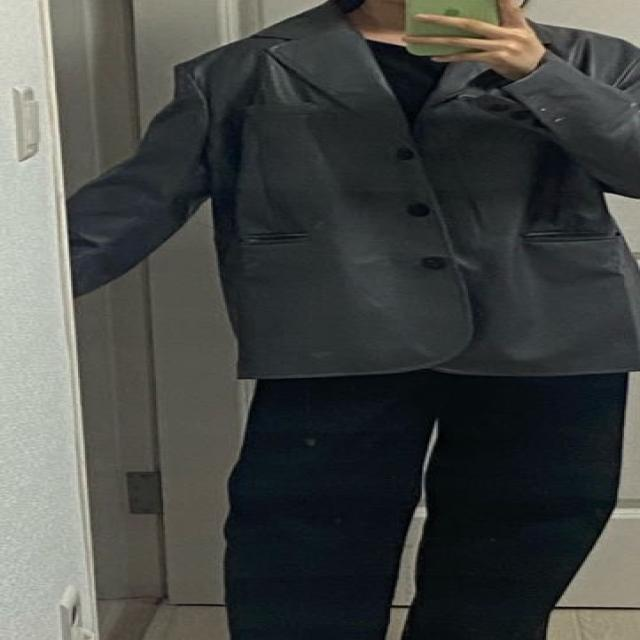blazer: (65, 0, 640, 380)
slacks: (219, 369, 631, 640)
